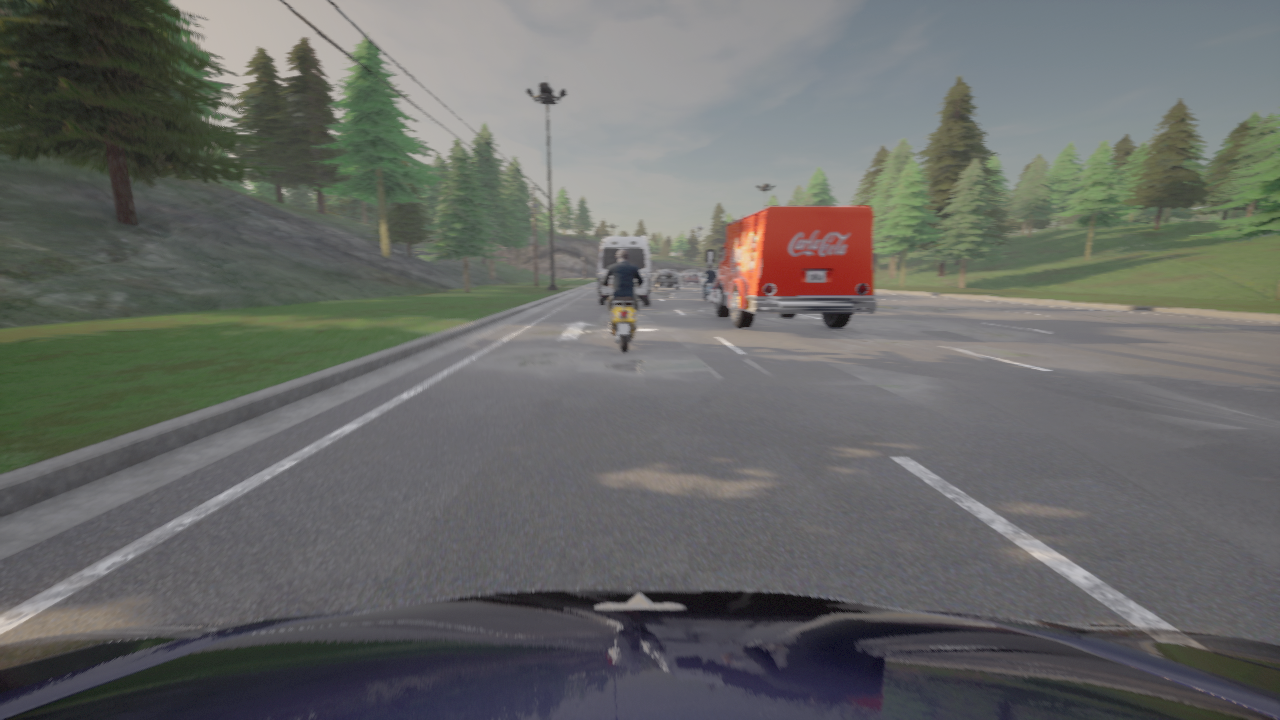cyclist: (0, 588, 1279, 719), (706, 206, 875, 327), (598, 272, 648, 352), (597, 236, 650, 305), (652, 269, 680, 290), (698, 273, 714, 303), (680, 270, 700, 285), (713, 269, 717, 281)
